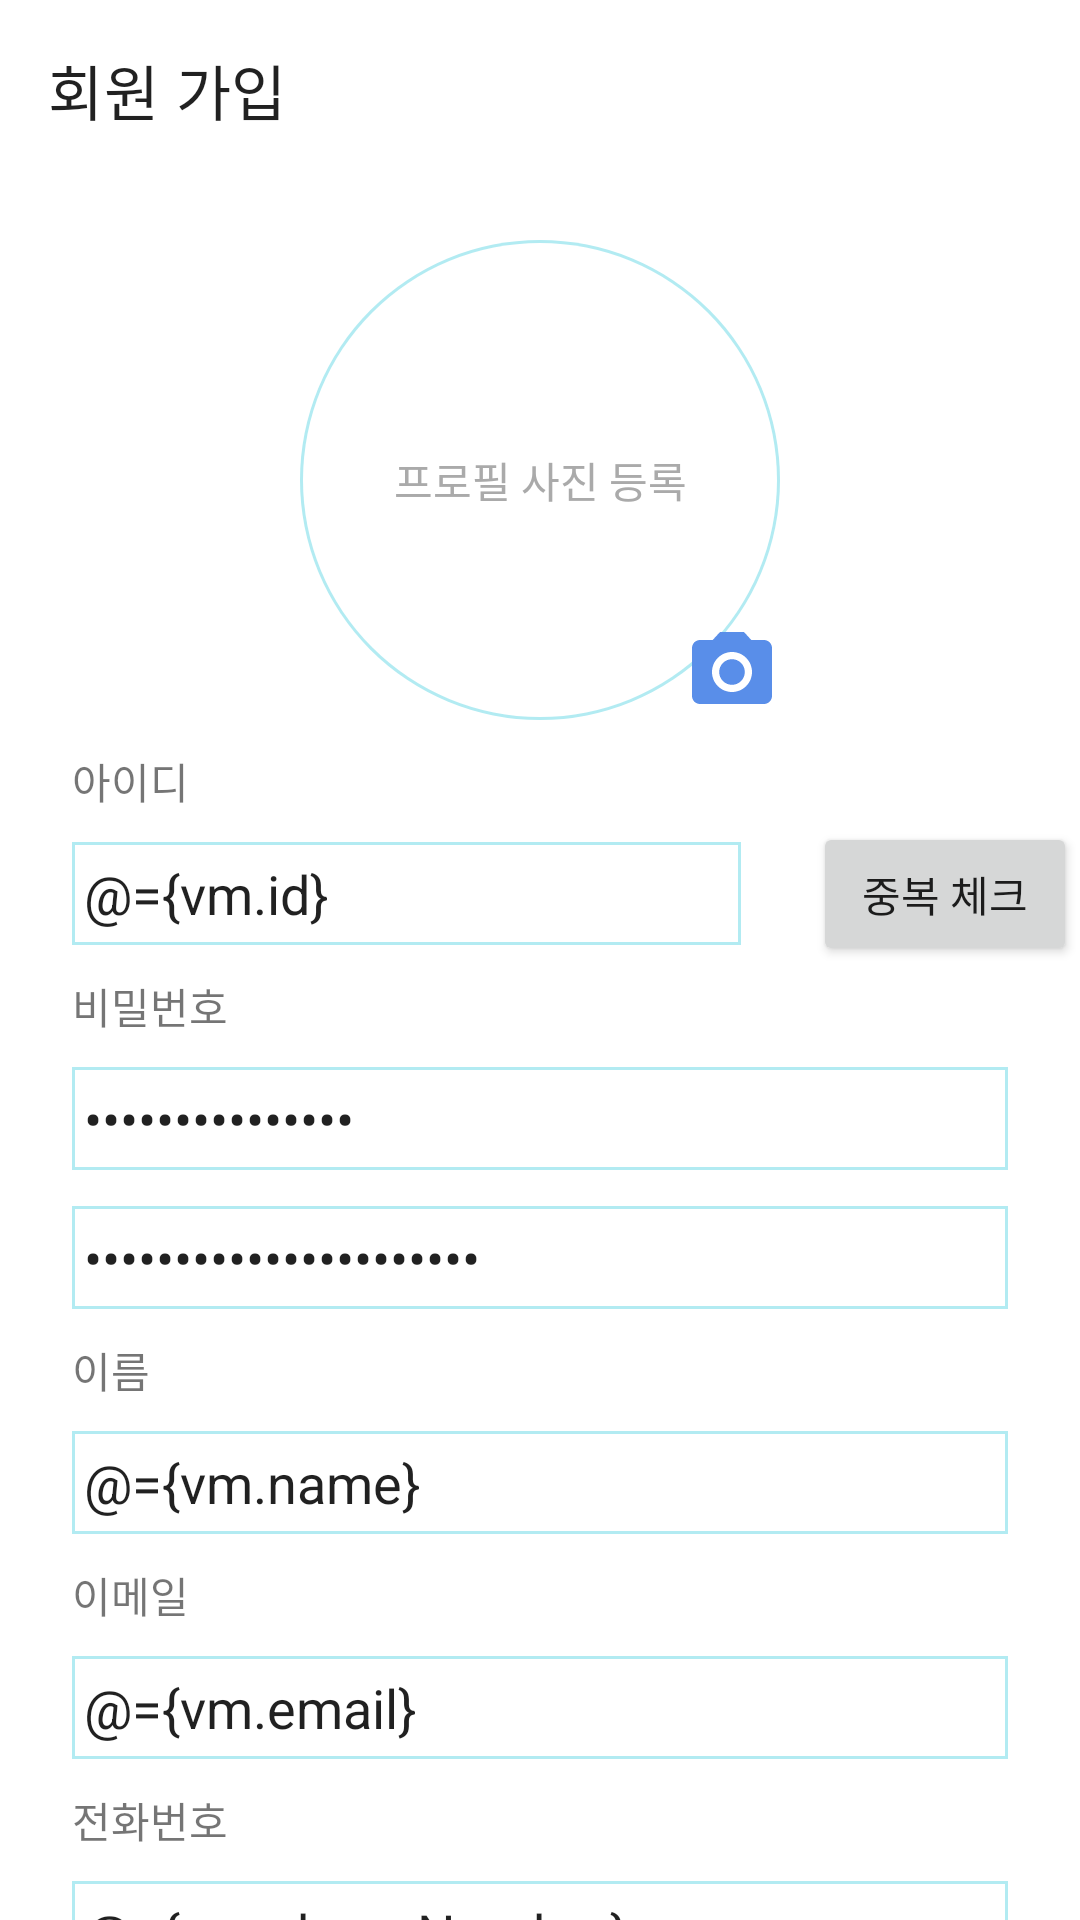

Where to tap for icons on this 1080w x 1920h app screen, as [x,y]:
photo: [728,664]
